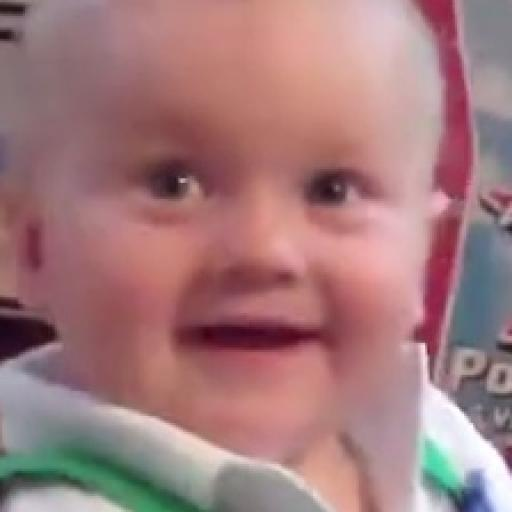Autism: (0, 9, 507, 456)
